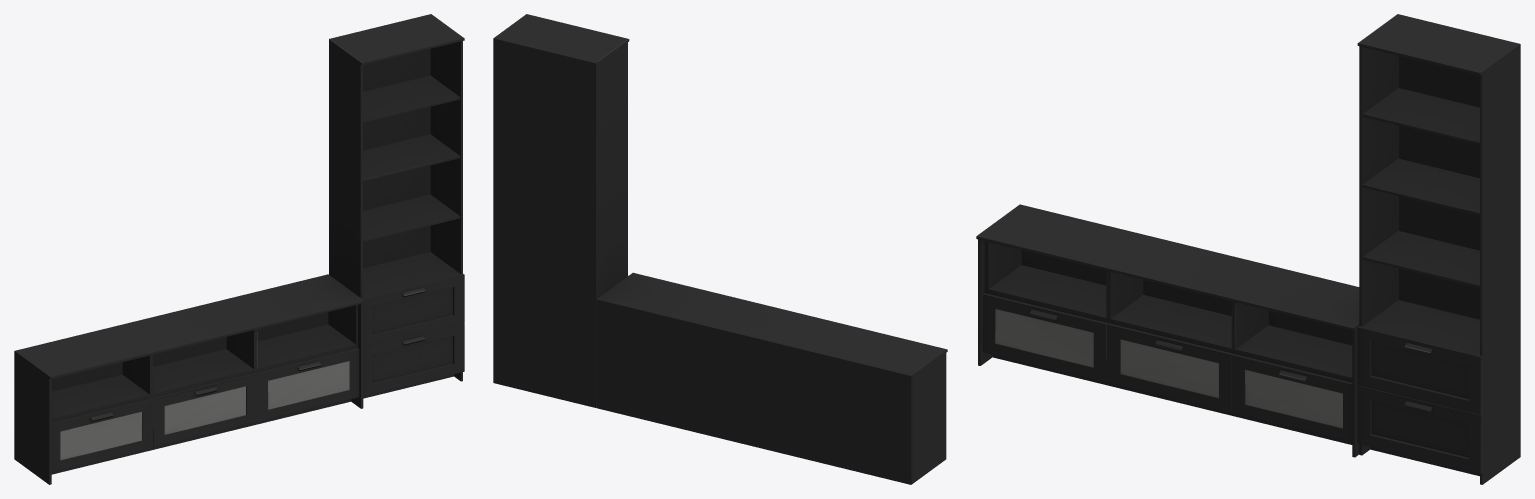
The model's file is Tv Shelf_003_Black.gltf.
The picture shows the model from 3 angles, left to right: view 1: azimuth 30°, elevation 25°; view 2: azimuth 150°, elevation 25°; view 3: azimuth 330°, elevation 25°; orthographic projection. The views are drawn at different scales.
Visible parts, largest first — view 1: Tv Shelf_003; view 2: Tv Shelf_003; view 3: Tv Shelf_003.
Boxes of the visible parts, x1,y1,x2,y2 form: Tv Shelf_003: (14, 14, 464, 484); Tv Shelf_003: (493, 14, 947, 484); Tv Shelf_003: (976, 14, 1520, 484).
Size of the model in its own units: 2.42 by 1.91 by 0.3653.
Materials: 1 (1 with a texture image).
